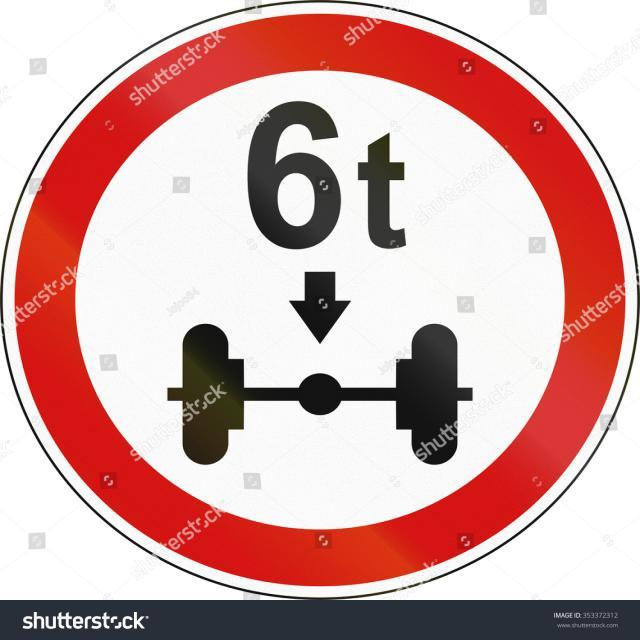axle load limit: (19, 12, 625, 583)
